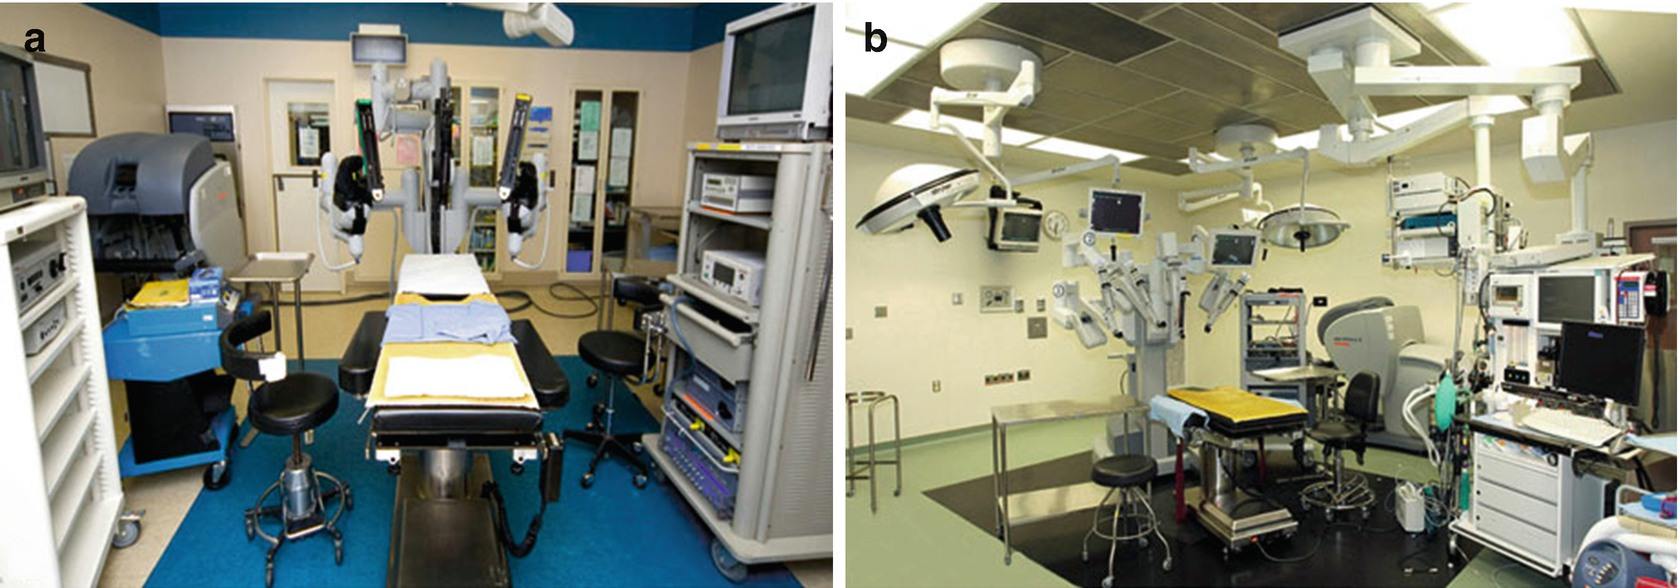TV: (712, 3, 833, 142), (1, 44, 48, 214)
bedside_monitor: (1533, 267, 1614, 329), (1088, 187, 1146, 237), (992, 209, 1044, 251), (1207, 231, 1264, 270)
breathing_tube: (1402, 358, 1470, 482)
chair: (243, 374, 353, 588), (561, 332, 657, 491), (1297, 370, 1381, 523), (1081, 453, 1173, 588)
computer: (1552, 321, 1646, 408)
electrosurgical_unit: (124, 272, 254, 340)
handle: (657, 295, 737, 345)
keyboard: (1521, 407, 1622, 447)
medical_drawer: (1, 196, 146, 588), (1459, 402, 1583, 581)
operating_bed: (337, 254, 570, 588), (1148, 386, 1309, 569)
surgical_light: (854, 163, 981, 242), (1257, 205, 1351, 253)
utility_cart: (990, 395, 1152, 567), (224, 251, 316, 375), (850, 389, 912, 506)
